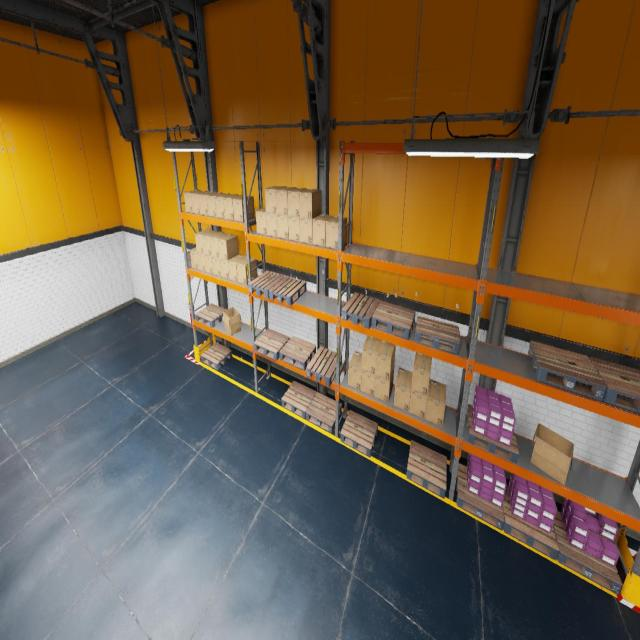box: (530, 423, 574, 485), (426, 379, 446, 427), (411, 352, 432, 396), (376, 340, 396, 381), (394, 367, 412, 412), (362, 336, 381, 375), (374, 366, 394, 403), (326, 216, 347, 249), (312, 214, 333, 246), (299, 188, 321, 218), (287, 188, 309, 217), (222, 307, 242, 335), (237, 257, 257, 285), (276, 187, 296, 215), (348, 351, 362, 390), (218, 234, 239, 260), (233, 196, 254, 222), (409, 389, 427, 419), (265, 186, 285, 213), (228, 254, 246, 282), (206, 192, 226, 217), (210, 232, 229, 258), (202, 230, 221, 256), (215, 193, 234, 219), (194, 229, 213, 254), (224, 194, 242, 220), (199, 191, 217, 216), (191, 191, 210, 214), (184, 190, 202, 212), (361, 370, 375, 396), (288, 216, 300, 242), (300, 218, 312, 244), (256, 207, 266, 235), (277, 214, 288, 239), (266, 213, 277, 237), (220, 258, 229, 279), (212, 256, 221, 277), (190, 247, 198, 270), (204, 254, 213, 274), (197, 252, 205, 271)
pallets: (553, 511, 622, 595), (528, 341, 607, 400), (503, 486, 559, 560), (466, 404, 519, 464), (457, 463, 504, 530), (589, 357, 640, 412), (406, 440, 447, 498), (340, 409, 378, 457), (415, 316, 460, 355), (372, 301, 415, 340), (306, 392, 342, 433), (342, 292, 380, 329), (306, 347, 342, 386), (282, 381, 316, 418), (280, 336, 316, 370), (254, 328, 290, 361), (269, 276, 306, 306), (248, 271, 285, 298), (201, 342, 232, 370), (195, 303, 226, 328)
